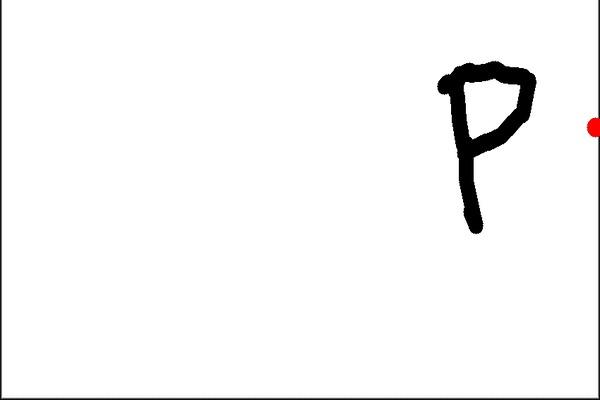P: (425, 53, 548, 246)
